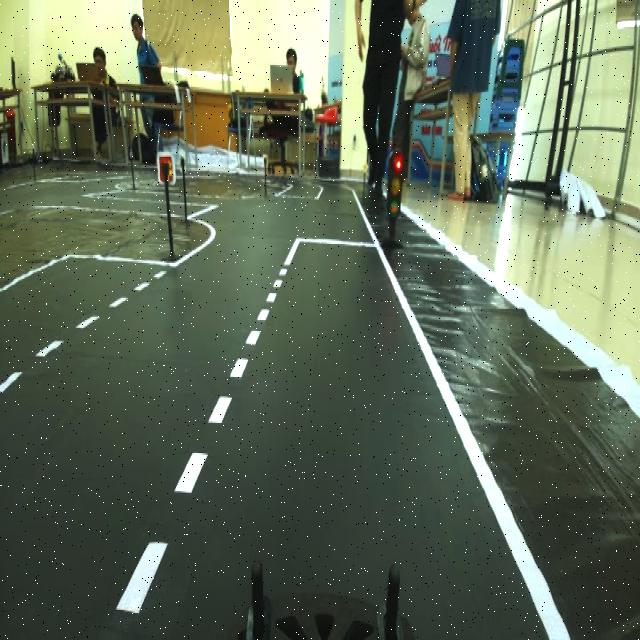trafficlight: (373, 144, 413, 268)
